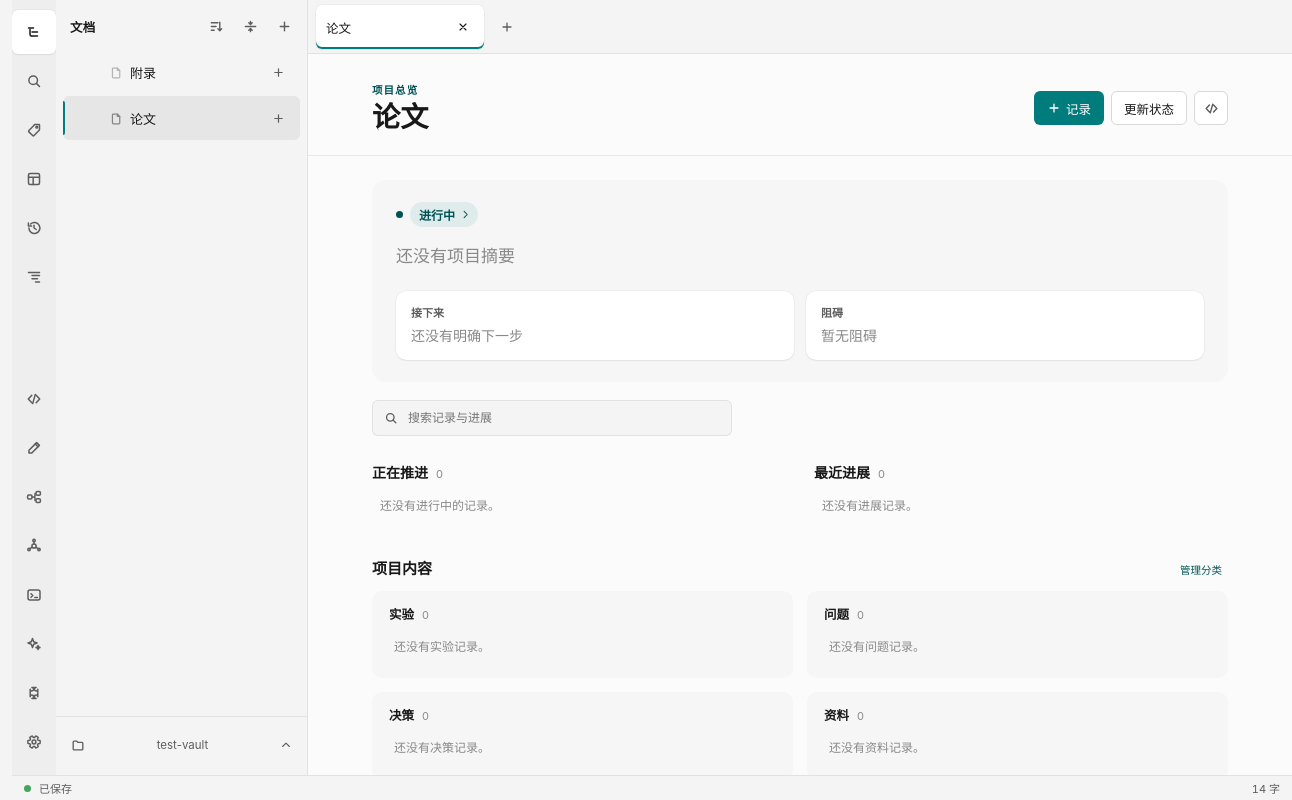
项目默认视图 › 点击当前标签对应的项目卡片也会真正进入单项目总览
Click the button named "项目中心".
click(34, 546)  # box [12, 524, 56, 568]
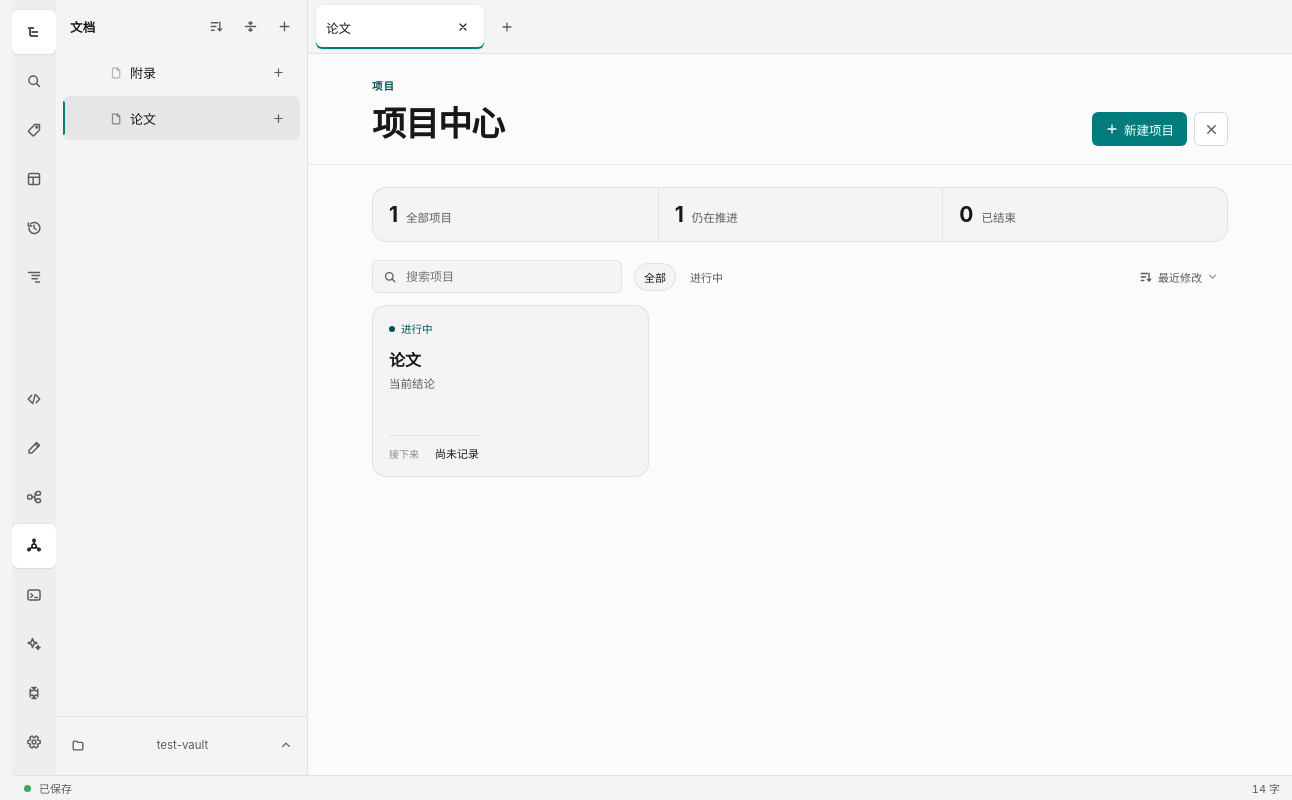
Result: the element named "项目中心" is shown
Click the button "进行中 论文 当前结论 接下来 尚未记录".
click(417, 330)  # box [372, 305, 649, 477]
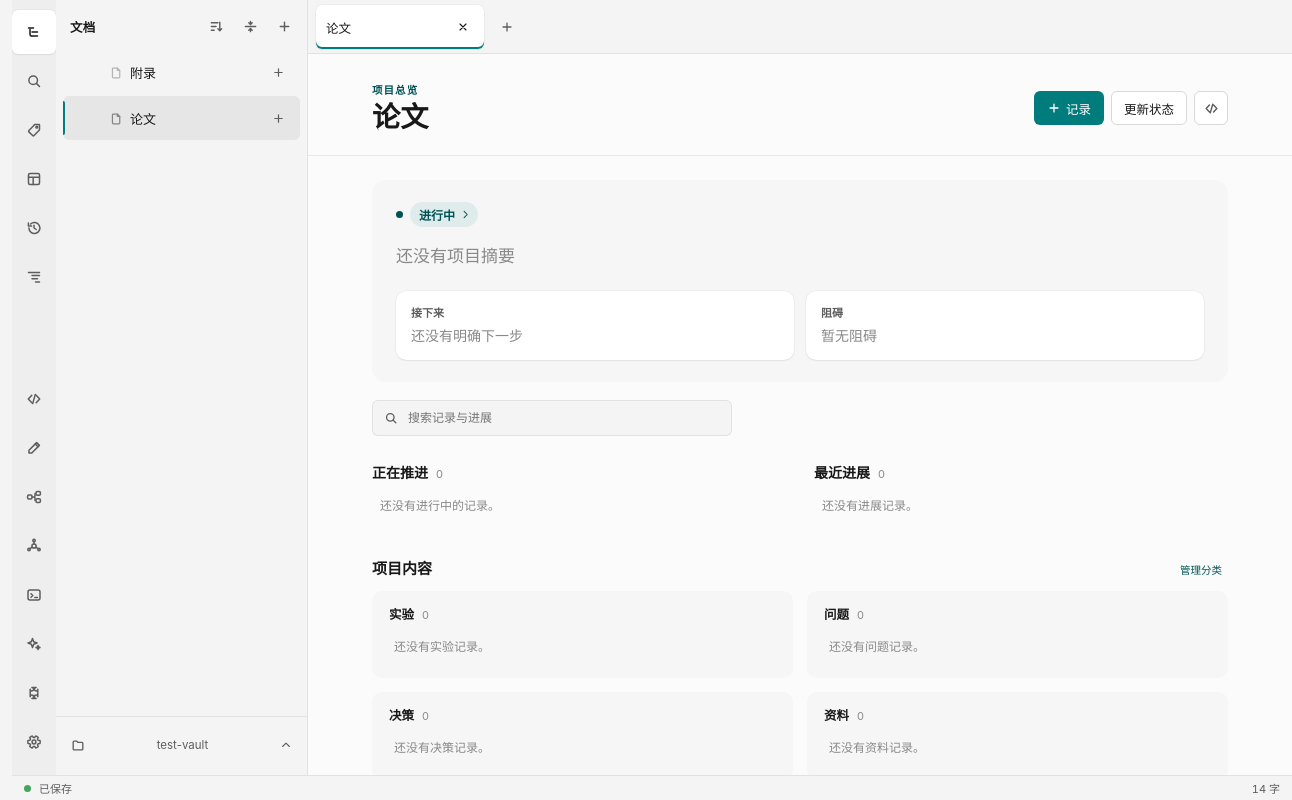
Result: the element named "论文 项目总览" is shown
